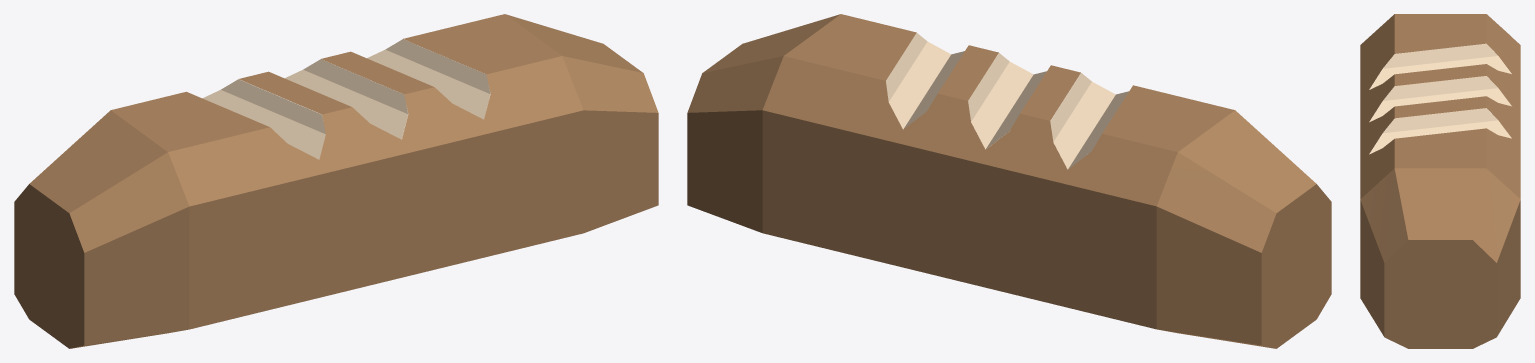
File: bread.gltf
3 views of the same model, side by side, from view 1: azimuth 30°, elevation 25°; view 2: azimuth 150°, elevation 25°; view 3: azimuth 270°, elevation 25° (orthographic). The views are drawn at different scales.
Visible parts, largest first — view 1: Mesh_loafBaguette_1, Mesh_loafBaguette; view 2: Mesh_loafBaguette_1, Mesh_loafBaguette; view 3: Mesh_loafBaguette_1, Mesh_loafBaguette.
Boxes of the visible parts, x1,y1,x2,y2 form: Mesh_loafBaguette_1: (14, 14, 658, 348); Mesh_loafBaguette: (202, 39, 490, 159); Mesh_loafBaguette_1: (687, 14, 1331, 348); Mesh_loafBaguette: (886, 33, 1128, 169); Mesh_loafBaguette_1: (1360, 14, 1520, 348); Mesh_loafBaguette: (1369, 43, 1511, 154).
Bounding box in the file's own units: 0.83 × 0.2502 × 0.2502.
